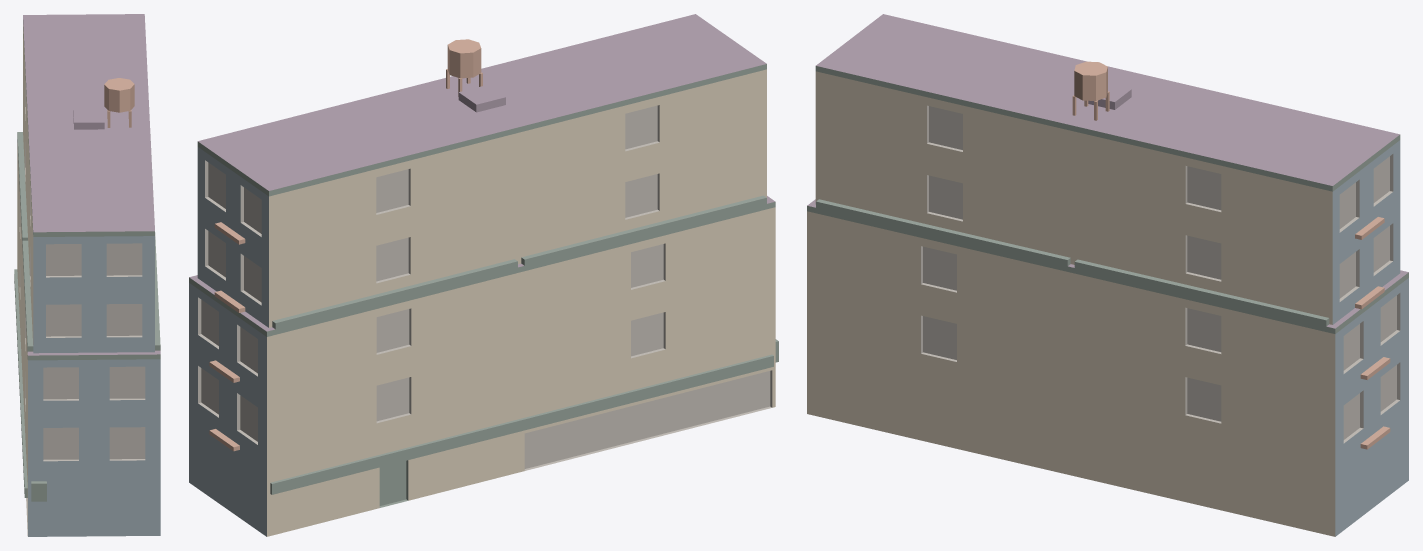
File: doitt-502491__lod_0.glb
3 renders of one model, left to right at view 1: azimuth 30°, elevation 25°; view 2: azimuth 150°, elevation 25°; view 3: azimuth 270°, elevation 25°, orthographic. The views are drawn at different scales.
Size of the model in its own units: 21.53 by 21.84 by 30.43.
